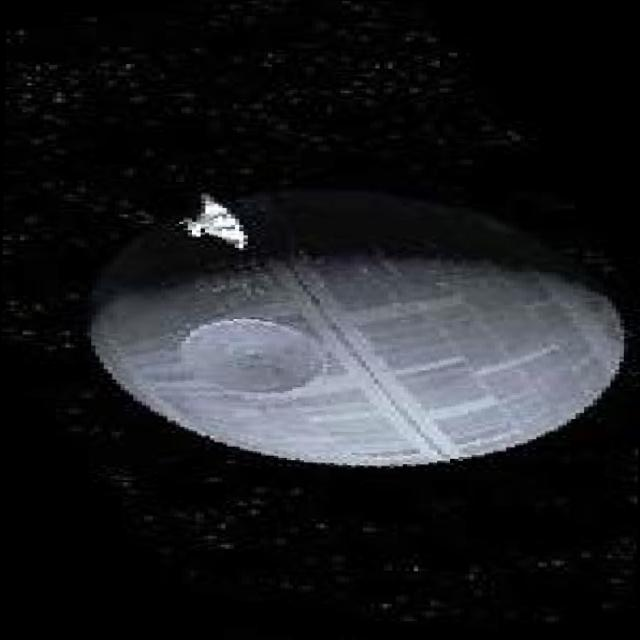Death Star: (81, 165, 629, 490)
